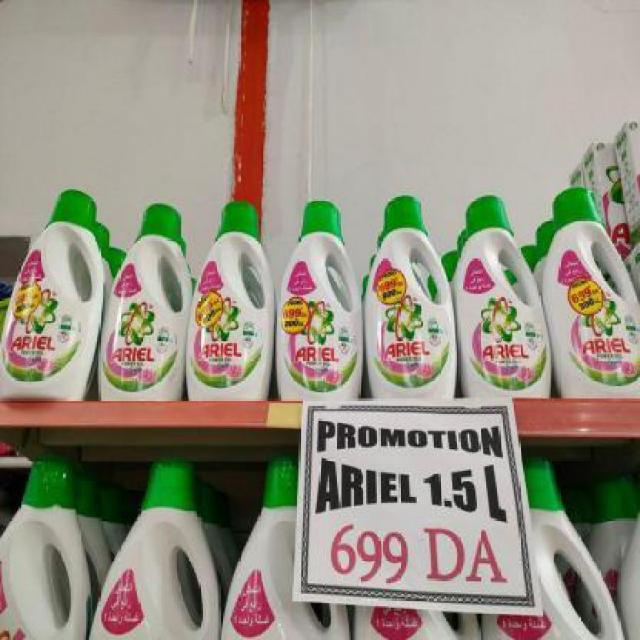Detergent: (0, 178, 102, 408), (547, 163, 639, 397), (362, 188, 458, 400), (98, 187, 192, 396), (451, 189, 544, 396), (184, 191, 276, 400), (274, 192, 363, 402)
